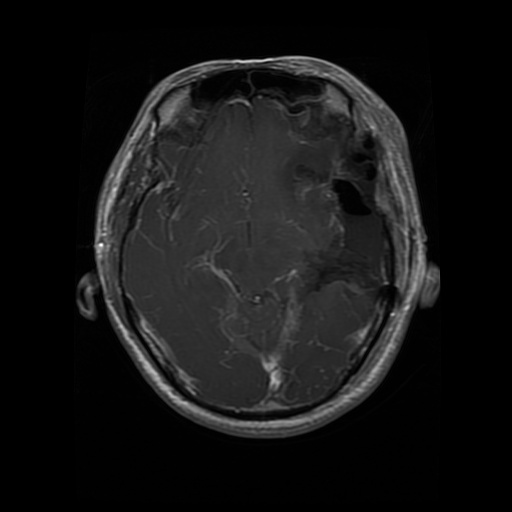glioma: (278, 111, 395, 290)
